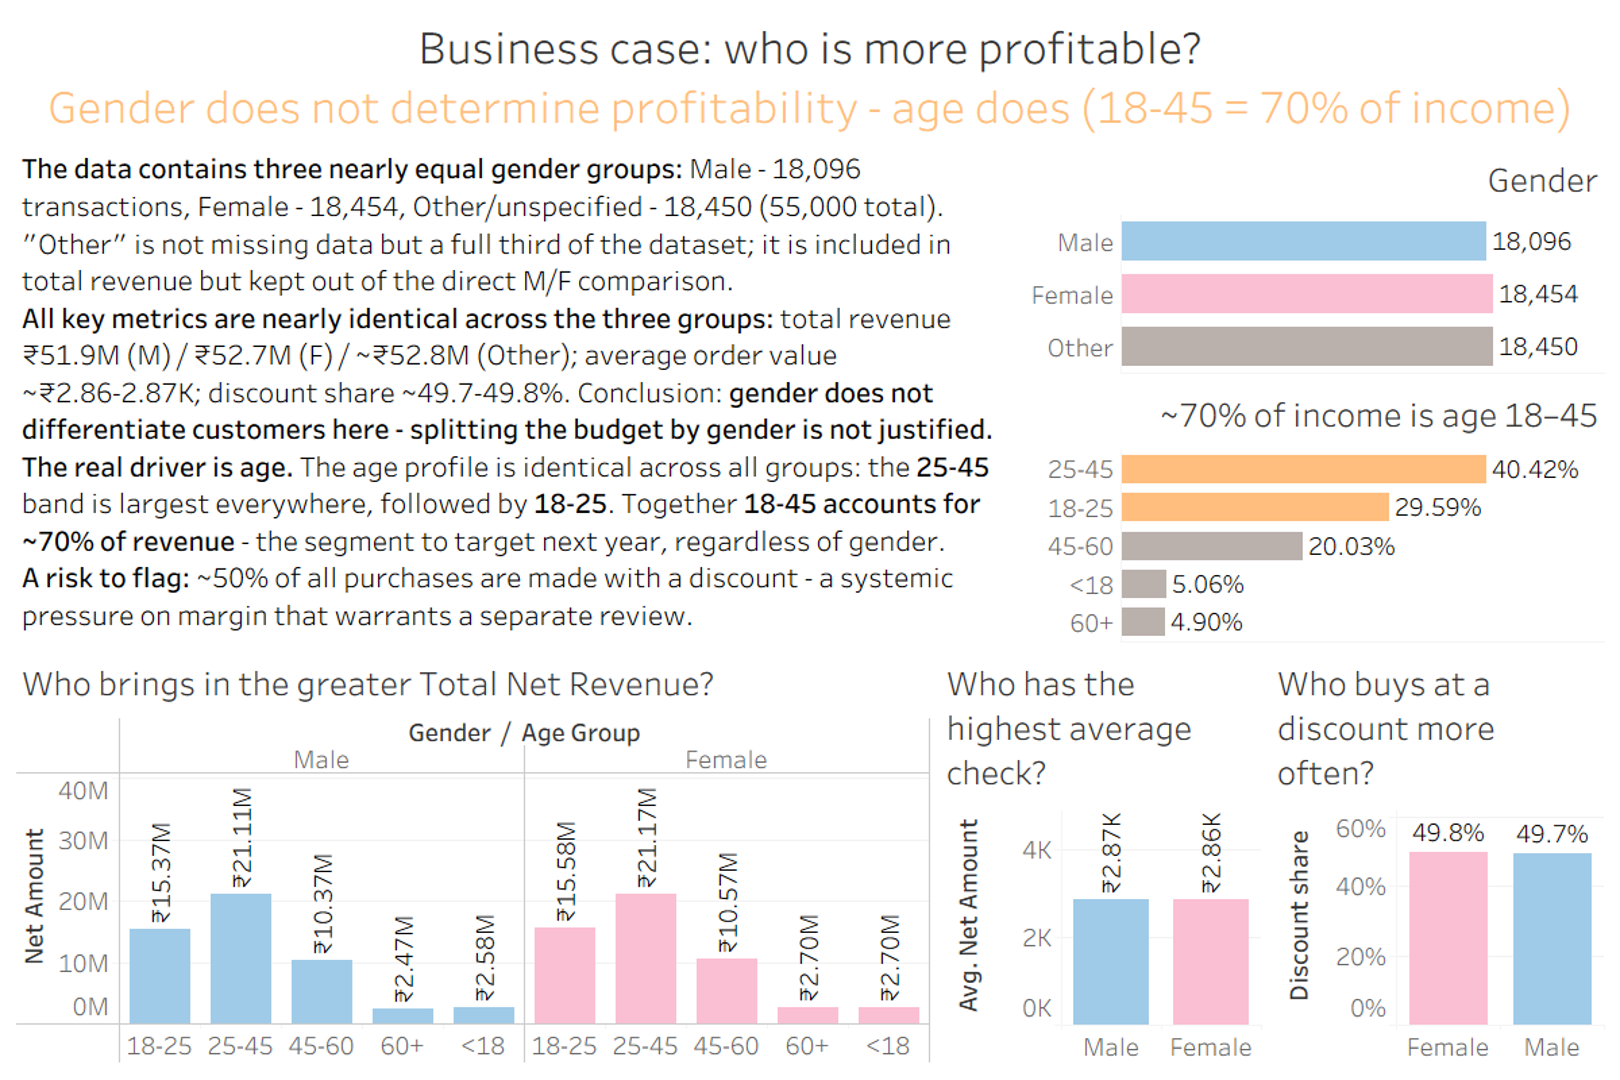

This screenshot's page, from the dashboard's own definition file:
{"tool":"tableau","page":{"name":"Dashboard 2","canvas":[1200,800],"ordinal":1},"visuals":[{"type":"text","box":[8,8,1184,98]},{"type":"text","box":[8,106,738,373]},{"type":"worksheet","title":"Male vs Female vs Unknown","mark":"Automatic","rows":["Gender"],"cols":["TID"],"box":[746,106,446,174]},{"type":"worksheet","title":"~70% of income is age 18–45","mark":"Bar","rows":["Age Group"],"cols":["Net Amount"],"box":[746,280,446,199]},{"type":"worksheet","title":"Who brings in the greater Total Net Revenue?","mark":"Bar","rows":["Net Amount"],"cols":["Gender","Age Group"],"box":[8,479,685,313]},{"type":"worksheet","title":"Who has the highest average check?","mark":"Automatic","rows":["Net Amount"],"cols":["Gender"],"box":[693,479,245,313]},{"type":"worksheet","title":"Who buys at a discount more often?","mark":"Automatic","rows":["Calculation_0757581353902081"],"cols":["Gender"],"box":[938,479,254,313]}]}

Visuals, with their boxes in screenshot pixels (x1, y1, x2, y2), scaled from the page's 1200x800 canvas onto the 1620x1080 screenshot:
text: x1=11, y1=11, x2=1609, y2=143
text: x1=11, y1=143, x2=1007, y2=647
"Male vs Female vs Unknown" worksheet: x1=1007, y1=143, x2=1609, y2=378
"~70% of income is age 18–45" worksheet (Bar marks): x1=1007, y1=378, x2=1609, y2=647
"Who brings in the greater Total Net Revenue?" worksheet (Bar marks): x1=11, y1=647, x2=936, y2=1069
"Who has the highest average check?" worksheet: x1=936, y1=647, x2=1266, y2=1069
"Who buys at a discount more often?" worksheet: x1=1266, y1=647, x2=1609, y2=1069
